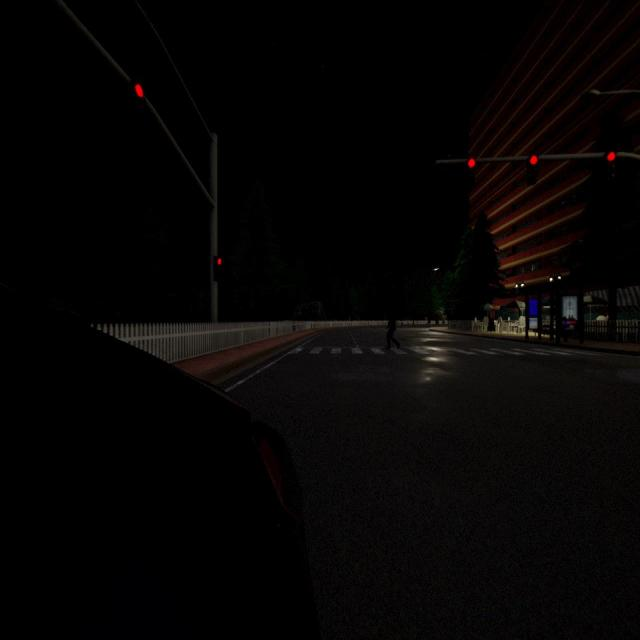Pedestrian: (384, 308, 400, 348)
Vehicle: (0, 288, 318, 640)
traffic_light: (605, 151, 617, 176), (529, 154, 539, 178), (213, 256, 222, 281), (468, 157, 476, 181), (134, 84, 144, 98)
